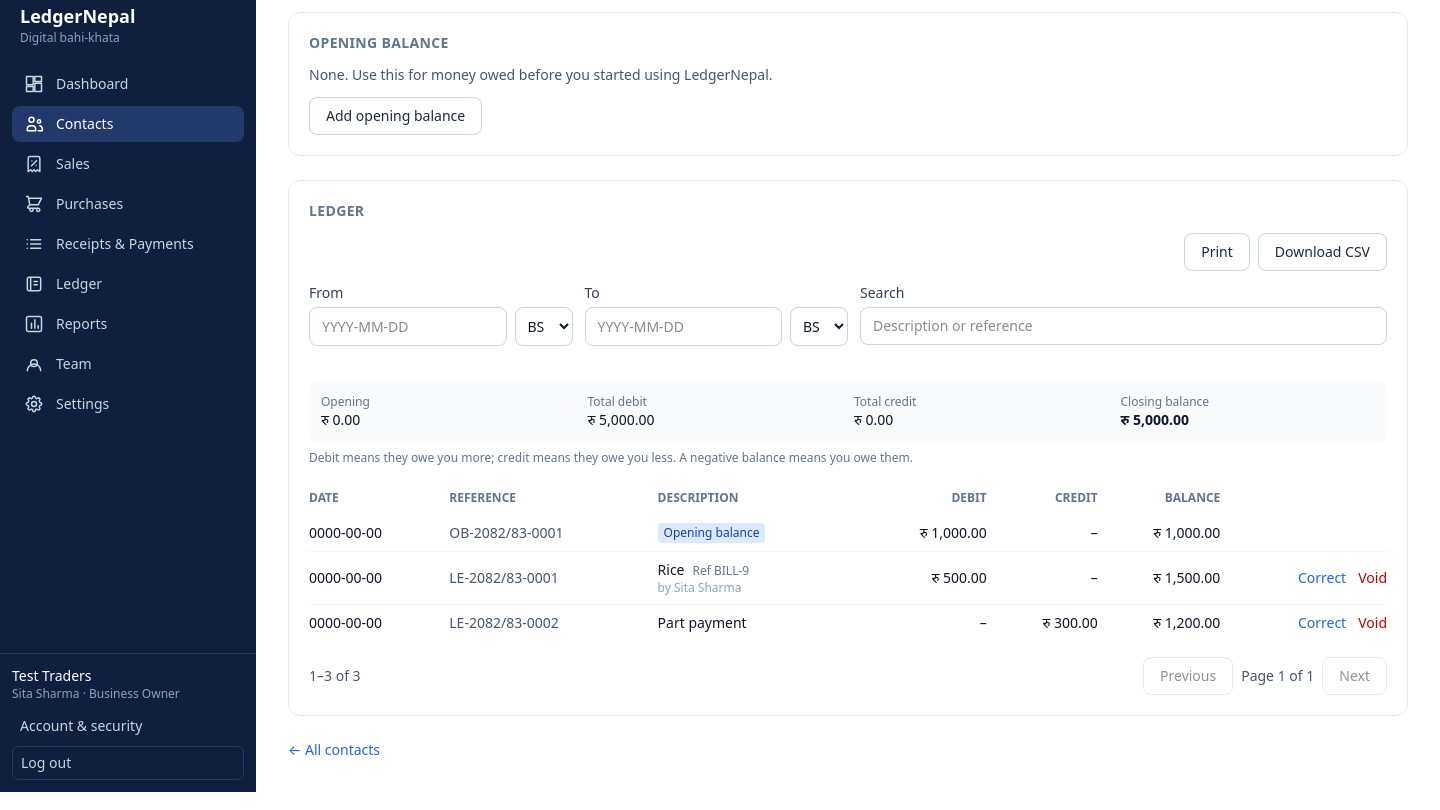
it: the contact ledger › correcting › starts from the old values, sends the new ones with the reason, and explains the old entry is kept
The image size is (1440, 810).
(page scrolled)
Click the button with aria-label "Correct LE-2082/83-0001" at (1322, 578), box [1298,568,1346,588]
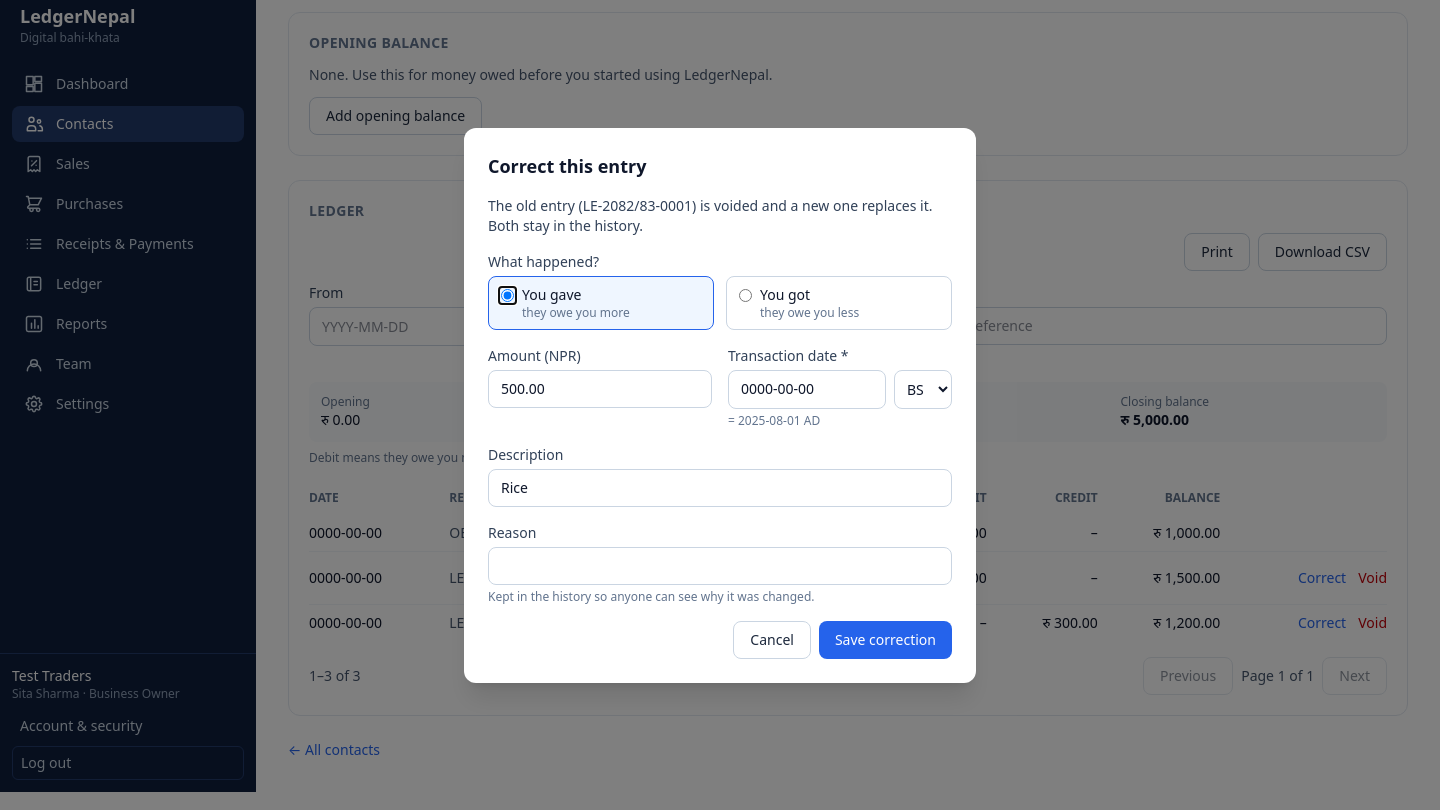
Now the text "voided and a new one replaces it. Both stay in the history" is shown, box [488,196,932,234]
Now the radio button labelled "You gave they owe you more" is checked, box [501,288,514,302]
Now the field labelled "Amount (NPR)" holds "500.00"
Replace the text in the field labelled "Amount (NPR)" with "5000" at (600, 388), box [488,370,712,408]
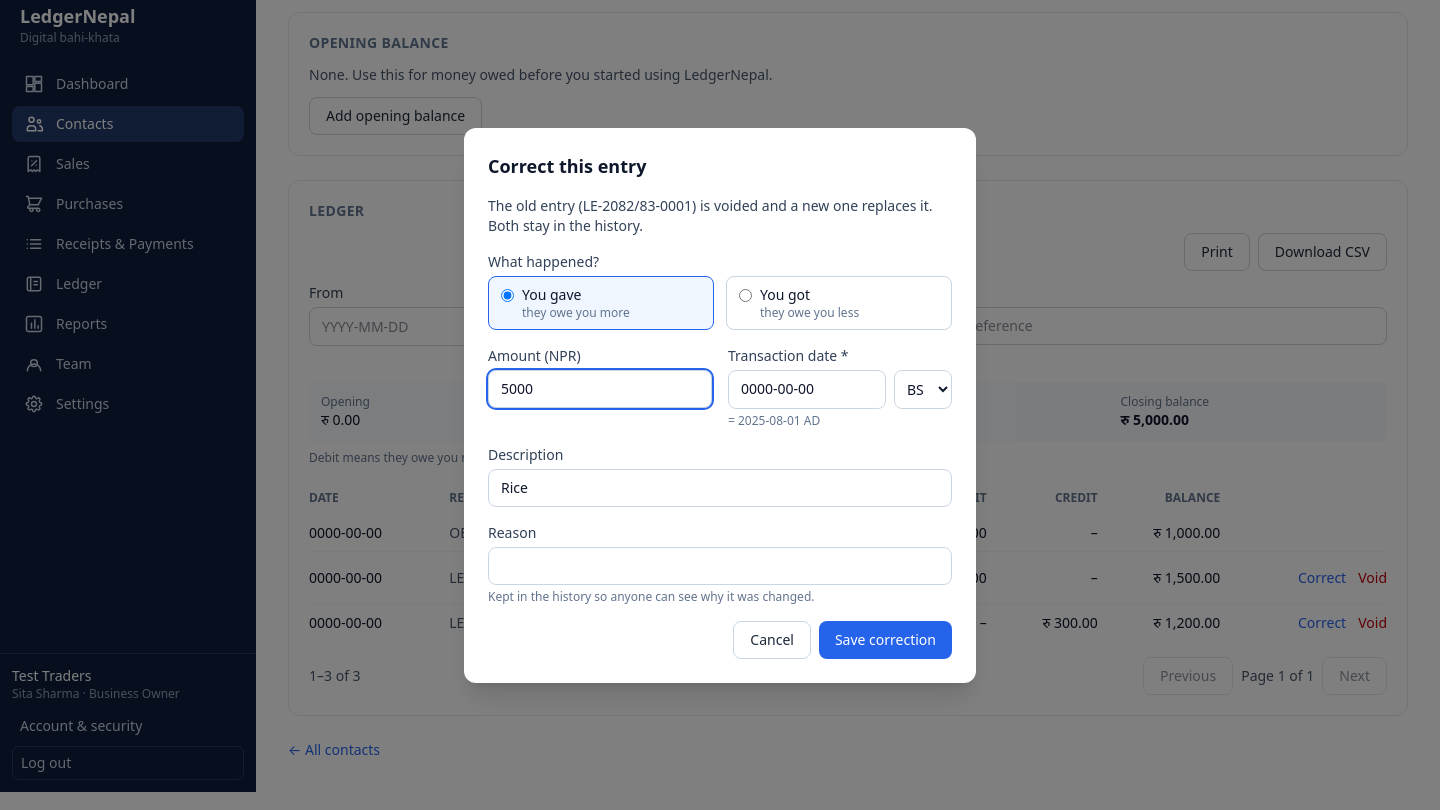
Type "An extra zero was missing" into the field labelled "Reason" at (720, 566), box [488,546,952,584]
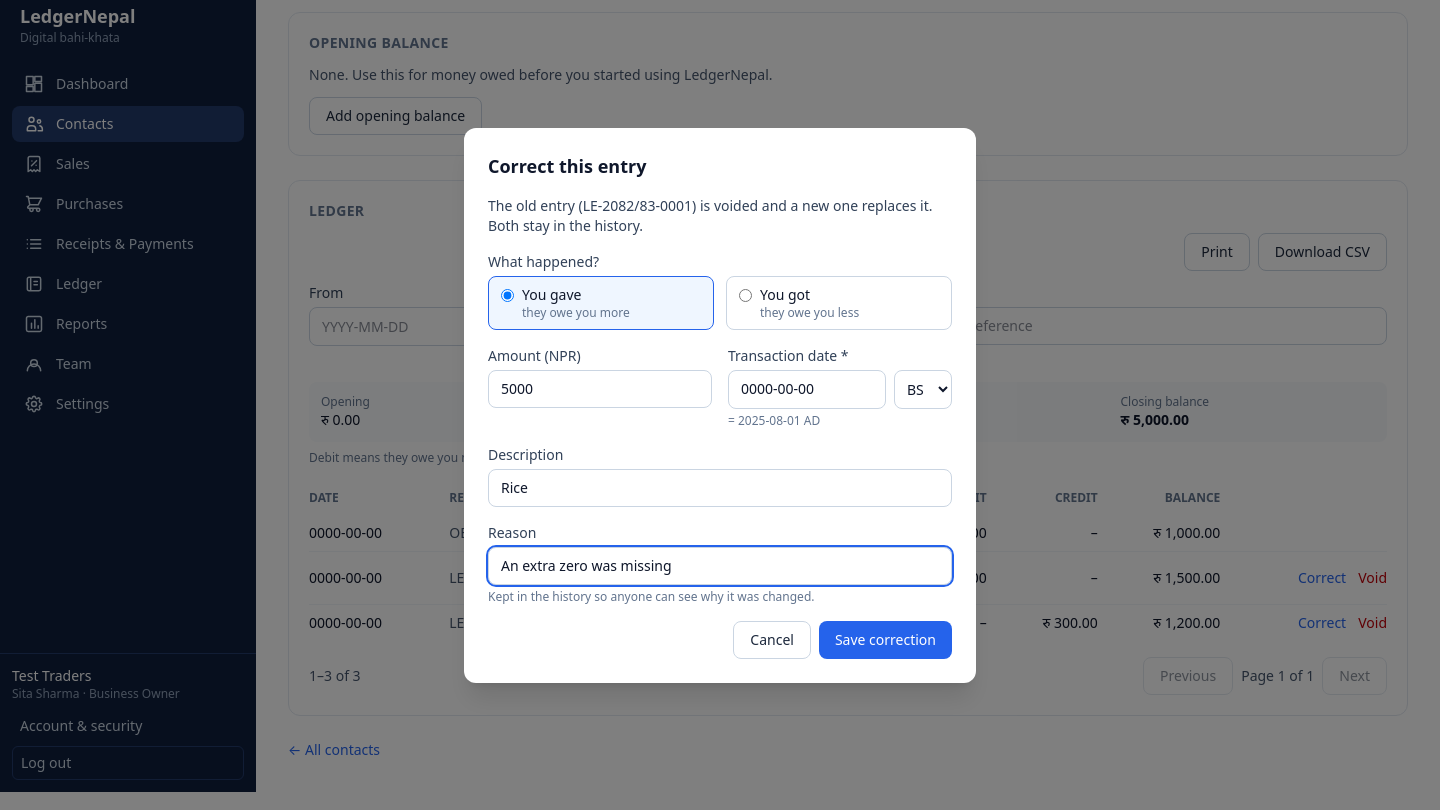
Click the button "Save correction" at (885, 640), box [819,620,952,658]
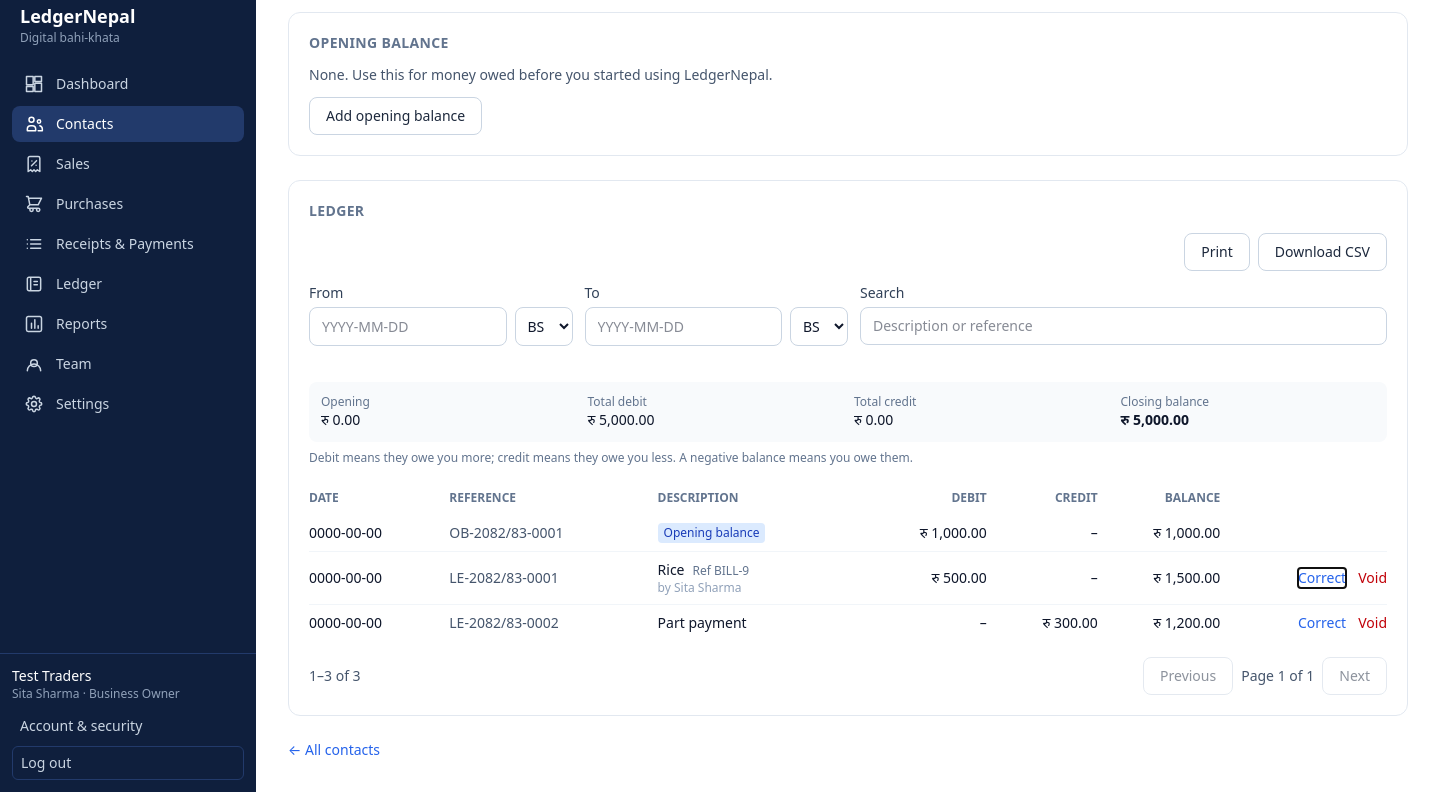
Now the dialog is gone
